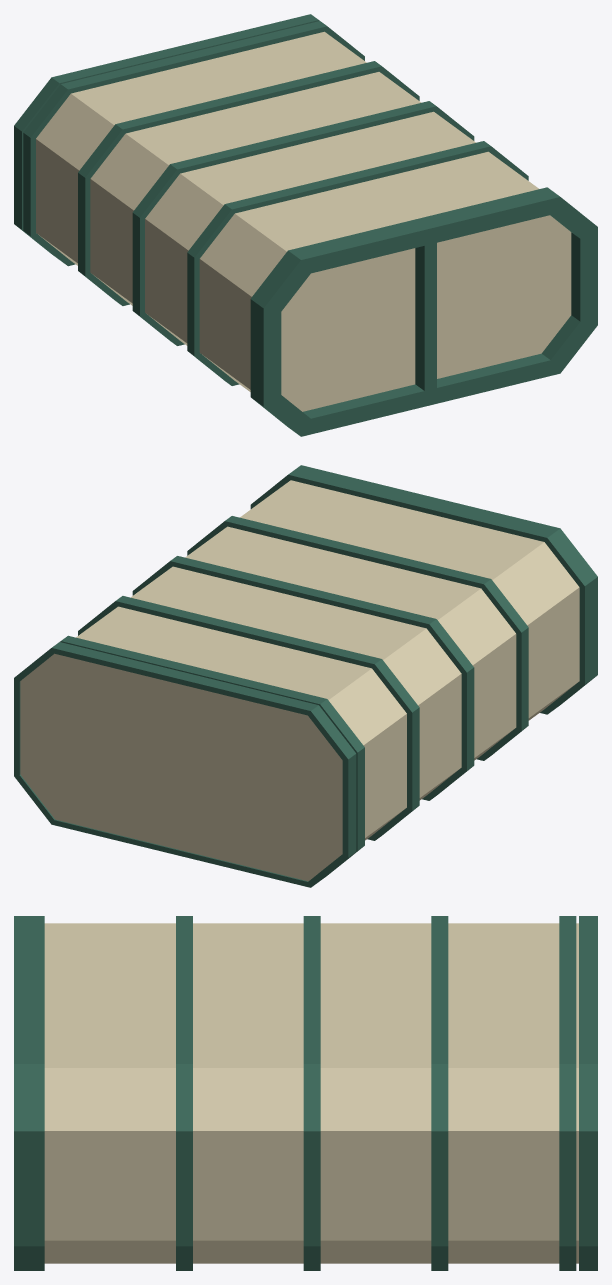
File: hangar2_shell.obj
3 views of the same model, one above another, from view 1: azimuth 30°, elevation 25°; view 2: azimuth 150°, elevation 25°; view 3: azimuth 270°, elevation 25° (orthographic). The views are drawn at different scales.
Visible parts, largest first — view 1: hangar2_shell; view 2: hangar2_shell; view 3: hangar2_shell.
Boxes of the visible parts, x1=… form: hangar2_shell: x1=14, y1=14, x2=597, y2=436; hangar2_shell: x1=14, y1=465, x2=597, y2=887; hangar2_shell: x1=14, y1=916, x2=597, y2=1270.
Size of the model in its own units: 9.54 by 4.82 by 12.34.
